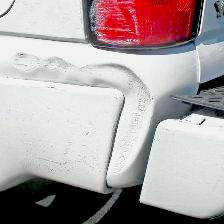bumper_dent: (1, 40, 142, 189)
